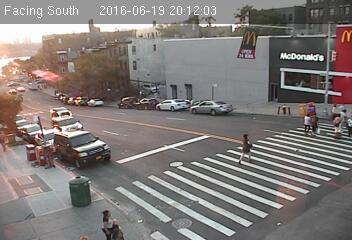neg: (157, 144, 185, 181), (12, 132, 39, 168), (56, 166, 80, 198), (39, 191, 62, 222), (270, 98, 292, 128), (30, 137, 51, 164), (1, 204, 22, 231), (18, 175, 38, 202), (88, 148, 108, 174), (73, 161, 92, 186), (66, 198, 84, 222), (324, 46, 341, 68), (1, 74, 18, 96), (3, 170, 20, 192), (34, 169, 49, 188), (155, 213, 169, 233), (2, 105, 16, 124), (318, 131, 329, 146), (23, 69, 34, 84), (52, 91, 63, 105), (77, 92, 88, 106), (19, 110, 28, 122)
pos: (234, 128, 259, 161), (95, 205, 120, 238), (306, 110, 326, 137), (329, 112, 349, 139), (334, 101, 351, 129), (298, 111, 317, 136), (339, 112, 351, 138)
